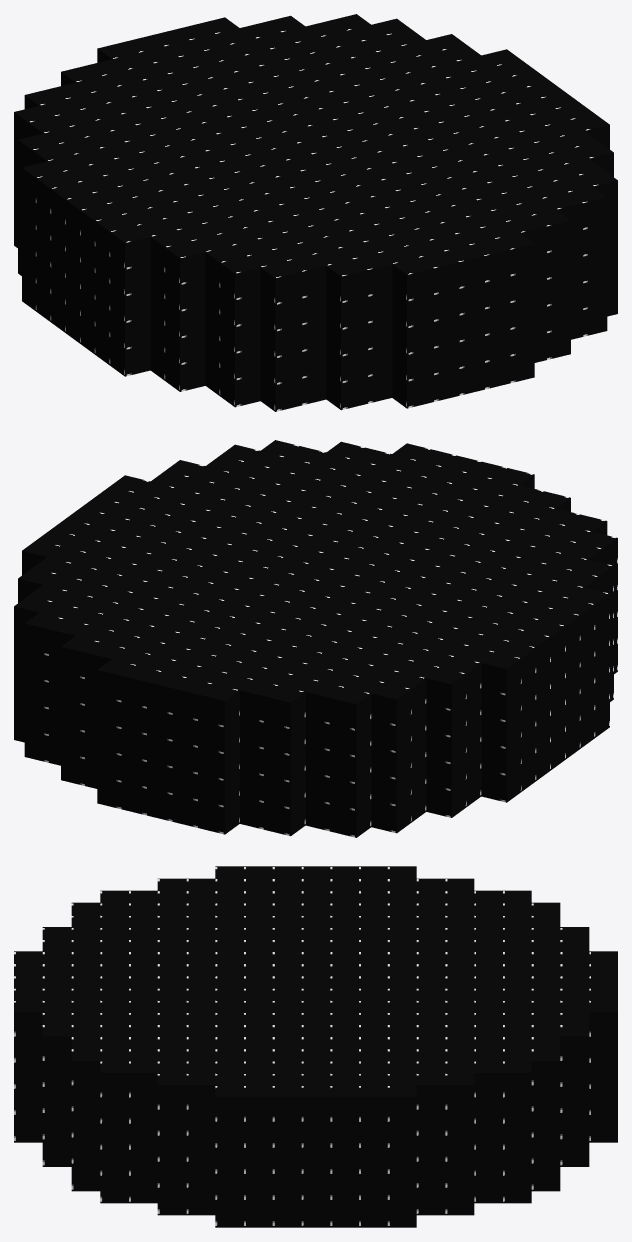
The model's file is scatoletta_usv.gltf.
3 renders of one model, top to bottom at view 1: azimuth 30°, elevation 25°; view 2: azimuth 150°, elevation 25°; view 3: azimuth 270°, elevation 25°, orthographic. The views are drawn at different scales.
Parts seen in each view (by area): view 1: Layer.1, Layer.2; view 2: Layer.1, Layer.2; view 3: Layer.1, Layer.2.
Boxes of the visible parts, x1=… form: Layer.1: x1=14, y1=14, x2=617, y2=411; Layer.2: x1=40, y1=25, x2=591, y2=267; Layer.1: x1=14, y1=440, x2=617, y2=837; Layer.2: x1=40, y1=451, x2=591, y2=693; Layer.1: x1=14, y1=866, x2=617, y2=1227; Layer.2: x1=42, y1=878, x2=589, y2=1084.
Bounding box in the file's own units: 19 × 5 × 21.
Materials: 1 (1 with a texture image).
